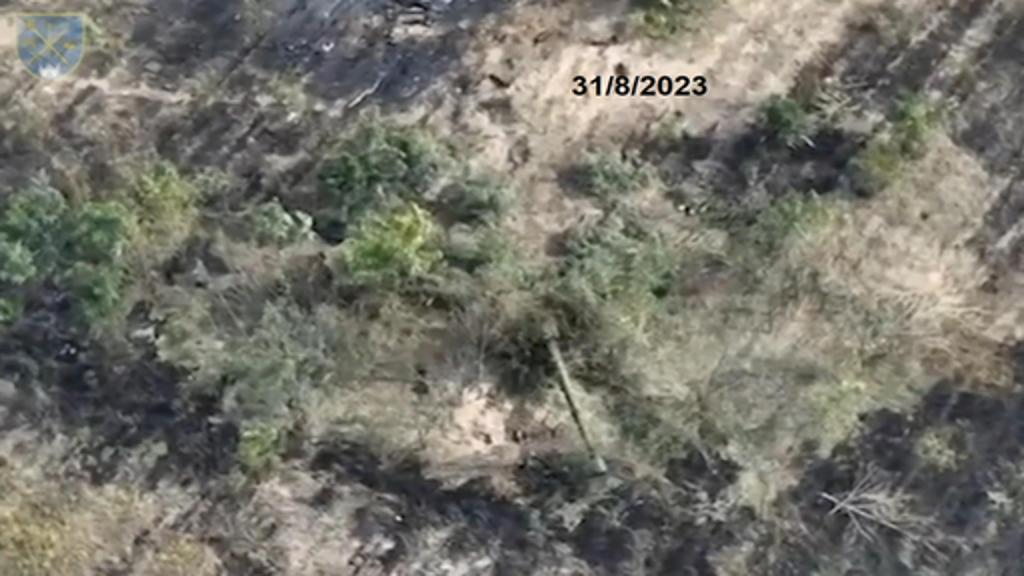ART: (498, 288, 624, 478)
